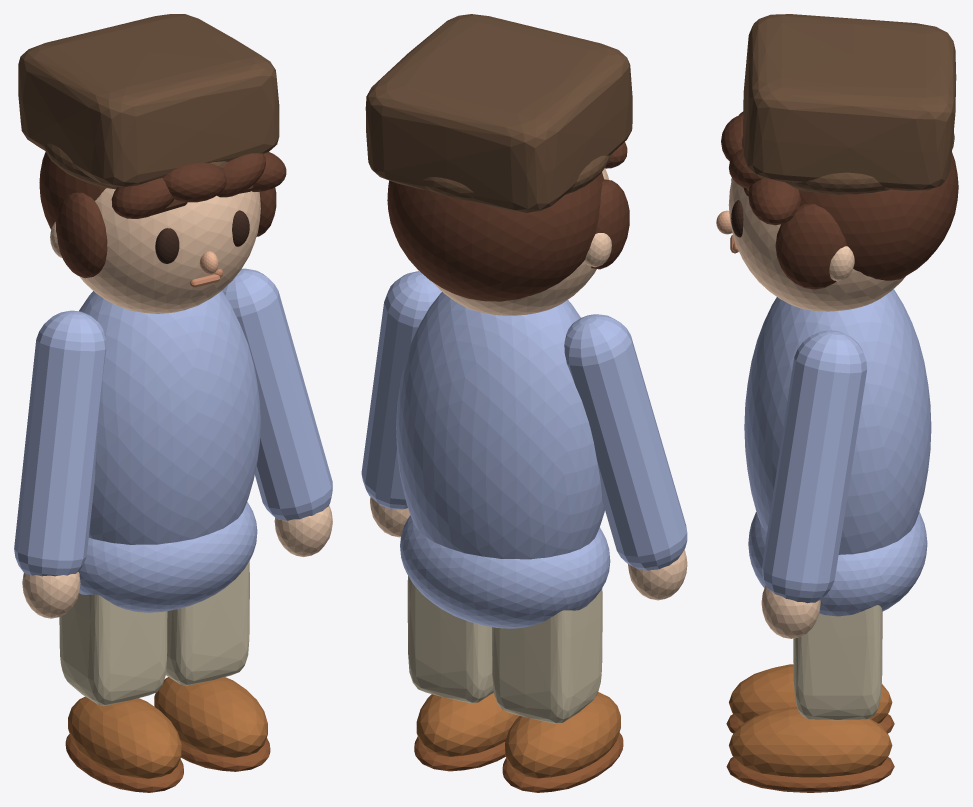
File: boy_takke.glb
3 renders of one model, left to right at view 1: azimuth 30°, elevation 25°; view 2: azimuth 150°, elevation 25°; view 3: azimuth 270°, elevation 25°, orthographic. The views are drawn at different scales.
Visible parts, largest first — view 1: Tunic, Cap, Sleeve_R, Sleeve_L, Head, Tunic_Hem, Pant_R, Shoe_R, Pant_L, Shoe_L, Hair_SideR, Hand_R (+11 smaller); view 2: Tunic, Cap, Hair_Back, Sleeve_R, Tunic_Hem, Pant_R, Sleeve_L, Pant_L, Shoe_R, Shoe_L, Head, Sole_R (+6 smaller); view 3: Cap, Tunic, Sleeve_L, Hair_Back, Pant_L, Shoe_L, Tunic_Hem, Head, Hair_SideL, Shoe_R, Sole_L, Hand_L (+5 smaller).
Boxes of the visible parts, box(x1,y1,x2,y2) form: Tunic: box(79, 290, 260, 544); Cap: box(18, 14, 279, 186); Sleeve_R: box(14, 310, 106, 576); Sleeve_L: box(222, 268, 332, 520); Head: box(79, 188, 260, 313); Tunic_Hem: box(79, 501, 257, 612); Pant_R: box(59, 593, 167, 705); Shoe_R: box(68, 696, 181, 778); Pant_L: box(166, 561, 249, 685); Shoe_L: box(154, 677, 267, 757); Hair_SideR: box(55, 192, 107, 278); Hand_R: box(22, 572, 80, 618); Tunic: box(396, 292, 604, 559); Cap: box(365, 14, 632, 212); Hair_Back: box(387, 172, 603, 301); Sleeve_R: box(564, 314, 687, 570); Tunic_Hem: box(400, 515, 610, 628); Pant_R: box(492, 588, 602, 723); Sleeve_L: box(361, 271, 441, 509); Pant_L: box(407, 576, 493, 703); Shoe_R: box(505, 692, 620, 778); Shoe_L: box(416, 693, 519, 756); Head: box(432, 168, 609, 315); Sole_R: box(502, 732, 623, 792); Cap: box(743, 14, 956, 190); Tunic: box(744, 289, 931, 554); Sleeve_L: box(761, 330, 867, 603); Hair_Back: box(798, 152, 958, 280); Pant_L: box(793, 605, 882, 720); Shoe_L: box(729, 706, 892, 777); Tunic_Hem: box(748, 512, 927, 616); Head: box(728, 178, 905, 311); Hair_SideL: box(775, 204, 846, 289); Shoe_R: box(729, 664, 892, 723); Sole_L: box(726, 757, 894, 792); Hand_L: box(761, 585, 820, 638).
Size of the model in its own units: 0.4654 by 1.01 by 0.311.
